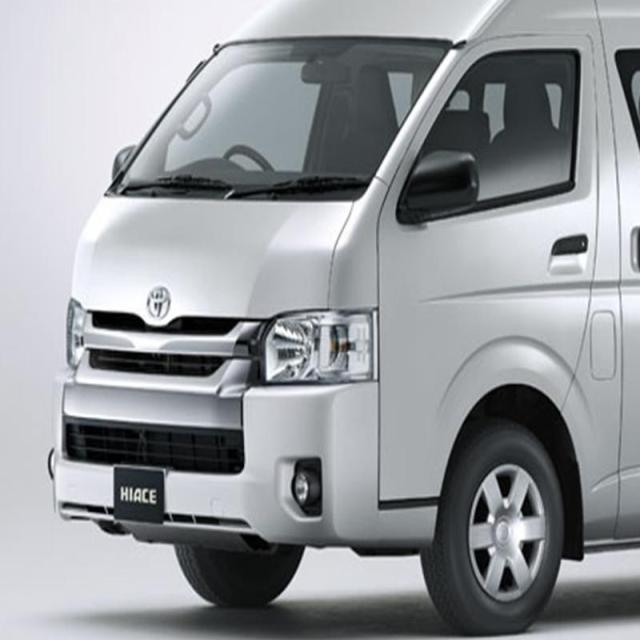Van: (45, 1, 640, 639)
